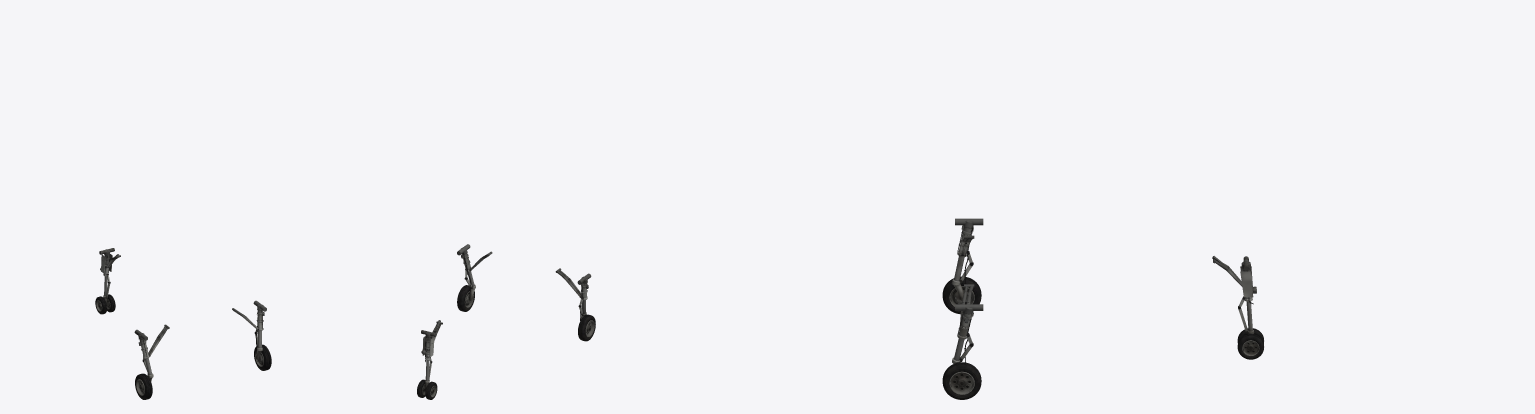
File: e_mirage_gear.glb
The picture shows the model from 3 angles, left to right: view 1: azimuth 30°, elevation 25°; view 2: azimuth 150°, elevation 25°; view 3: azimuth 270°, elevation 25°; orthographic projection. The views are drawn at different scales.
Parts seen in each view (by area): view 1: body|M2000_paint; view 2: body|M2000_paint; view 3: body|M2000_paint.
Boxes of the visible parts, x1,y1,x2,y2 form: body|M2000_paint: [95, 248, 271, 399]; body|M2000_paint: [417, 244, 595, 399]; body|M2000_paint: [942, 218, 1263, 399].
Size of the model in its own units: 3.65 by 6.4 by 14.62.
1 material, 1 textured.
